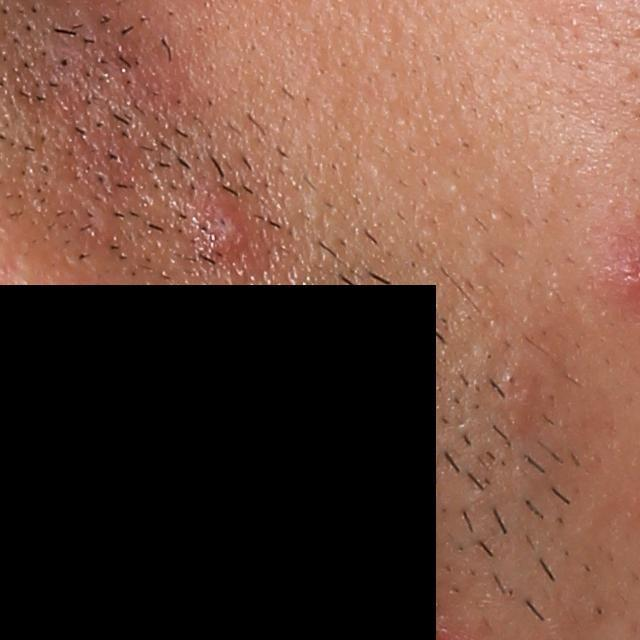papule: (194, 187, 264, 264)
